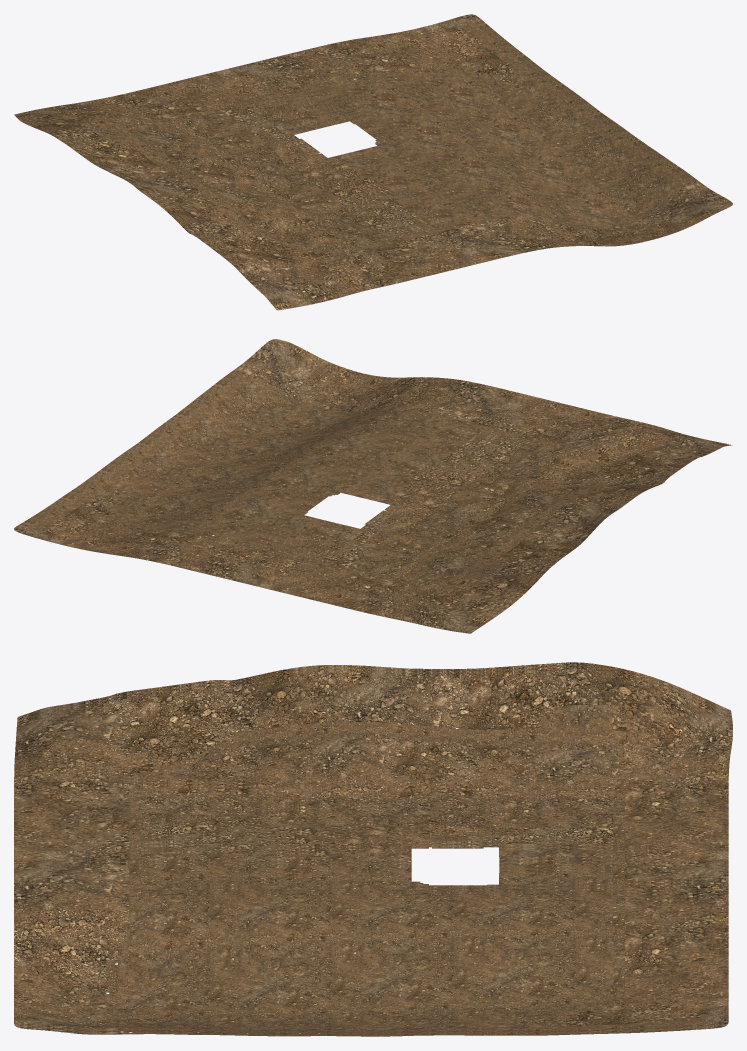
Rendered from piso.obj.
The picture shows the model from 3 angles, top to bottom: view 1: azimuth 30°, elevation 25°; view 2: azimuth 150°, elevation 25°; view 3: azimuth 270°, elevation 25°; orthographic projection. The views are drawn at different scales.
Parts seen in each view (by area): view 1: piso:Group378; view 2: piso:Group378; view 3: piso:Group378.
Part boxes in pixels (box(x1,y1,x2,y2)): piso:Group378: box(14, 14, 732, 310); piso:Group378: box(14, 339, 732, 633); piso:Group378: box(14, 662, 732, 1036).
Size of the model in its own units: 25.23 by 3.16 by 24.05.
2 materials, 2 textured.
